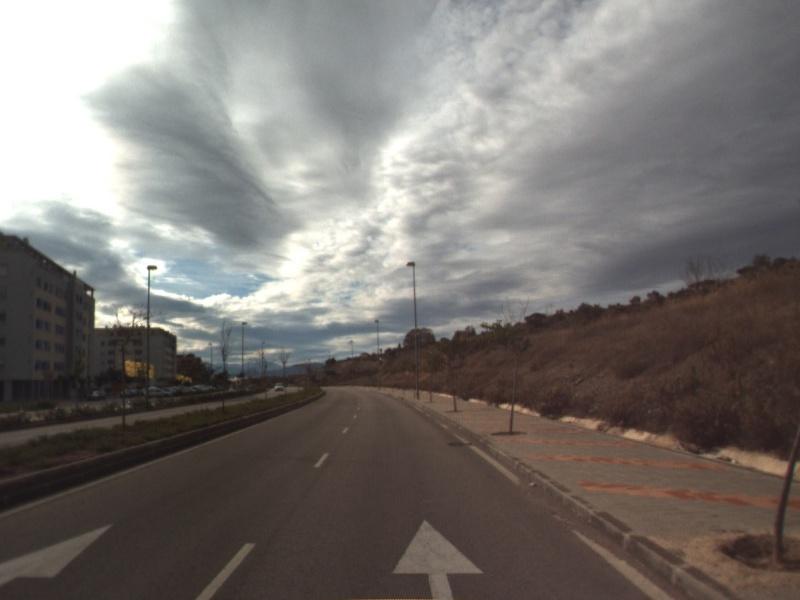STRAIGHT: (387, 515, 487, 600), (1, 518, 118, 587)
